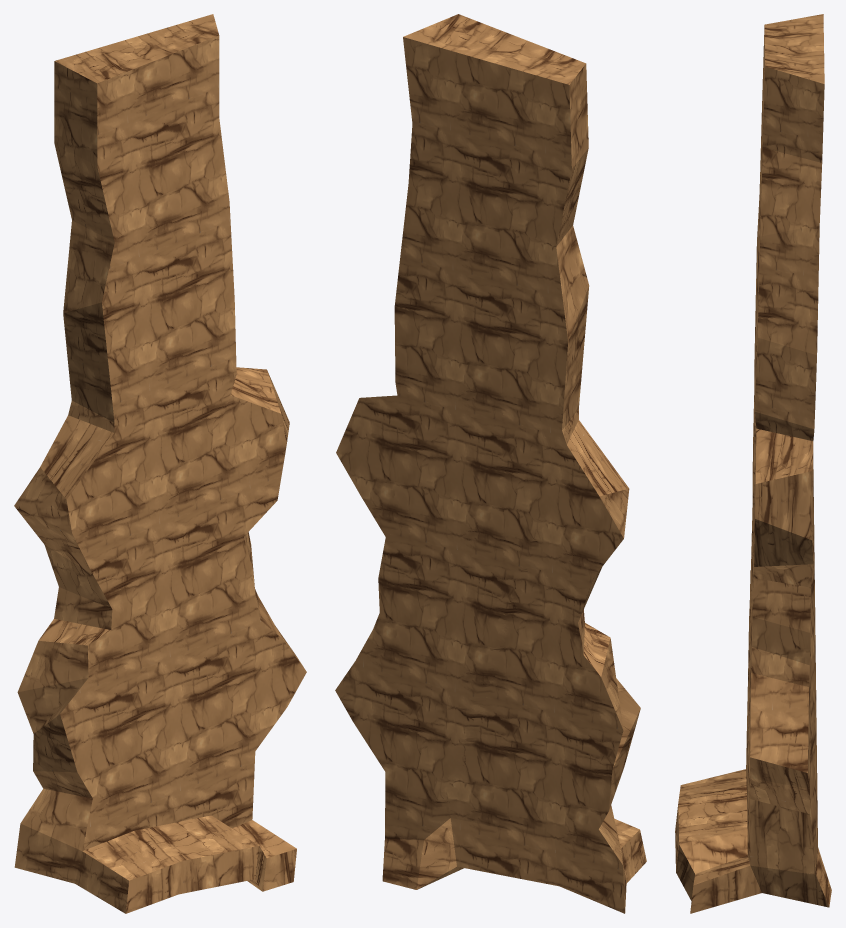
File: fondo9.obj
The picture shows the model from 3 angles, left to right: view 1: azimuth 30°, elevation 25°; view 2: azimuth 150°, elevation 25°; view 3: azimuth 270°, elevation 25°; orthographic projection. The views are drawn at different scales.
Parts seen in each view (by area): view 1: Plane.053_Plane.058; view 2: Plane.053_Plane.058; view 3: Plane.053_Plane.058.
Boxes of the visible parts, x1,y1,x2,y2 form: Plane.053_Plane.058: [14, 14, 306, 913]; Plane.053_Plane.058: [335, 14, 646, 913]; Plane.053_Plane.058: [675, 14, 831, 913].
Bounding box in the file's own units: 539 × 1531 × 261.
Materials: 1 (1 with a texture image).
